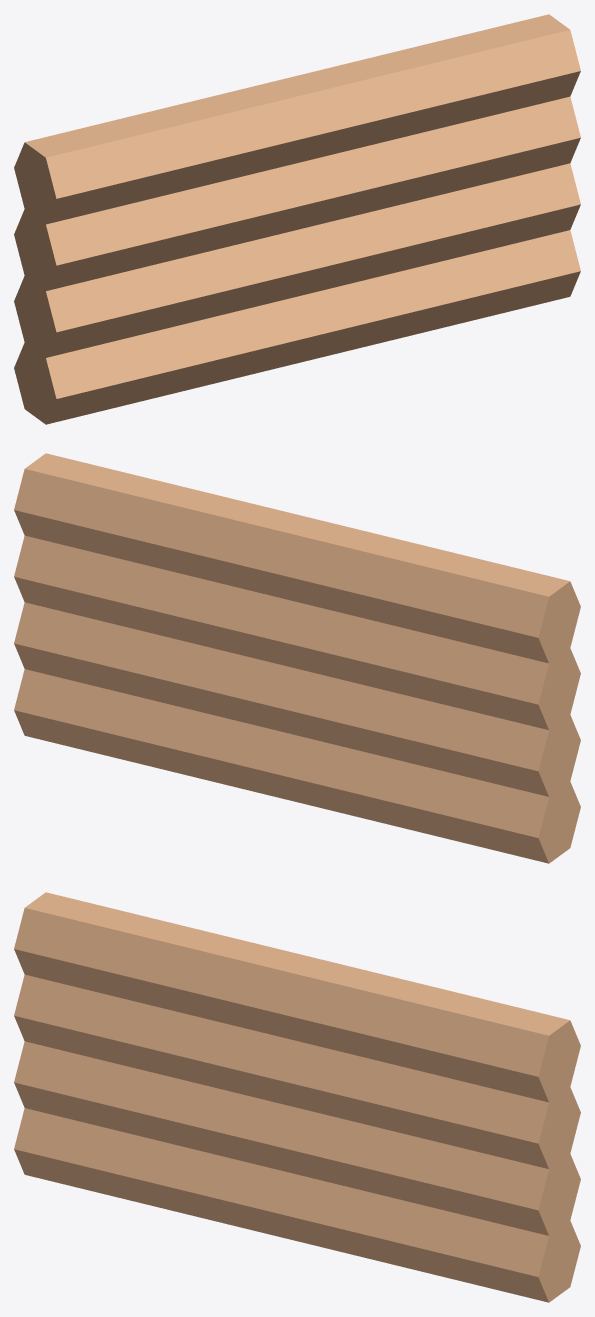
Rendered from cabinWallHalf.glb.
The picture shows the model from 3 angles, top to bottom: view 1: azimuth 30°, elevation 25°; view 2: azimuth 150°, elevation 25°; view 3: azimuth 330°, elevation 25°; orthographic projection.
Visible parts, largest first — view 1: cabinWallHalf; view 2: cabinWallHalf; view 3: cabinWallHalf.
Boxes of the visible parts, x1,y1,x2,y2 form: cabinWallHalf: (14,14,580,424); cabinWallHalf: (14,453,580,863); cabinWallHalf: (14,892,580,1302).
Size of the model in its own units: 1 by 0.4864 by 0.1404.
